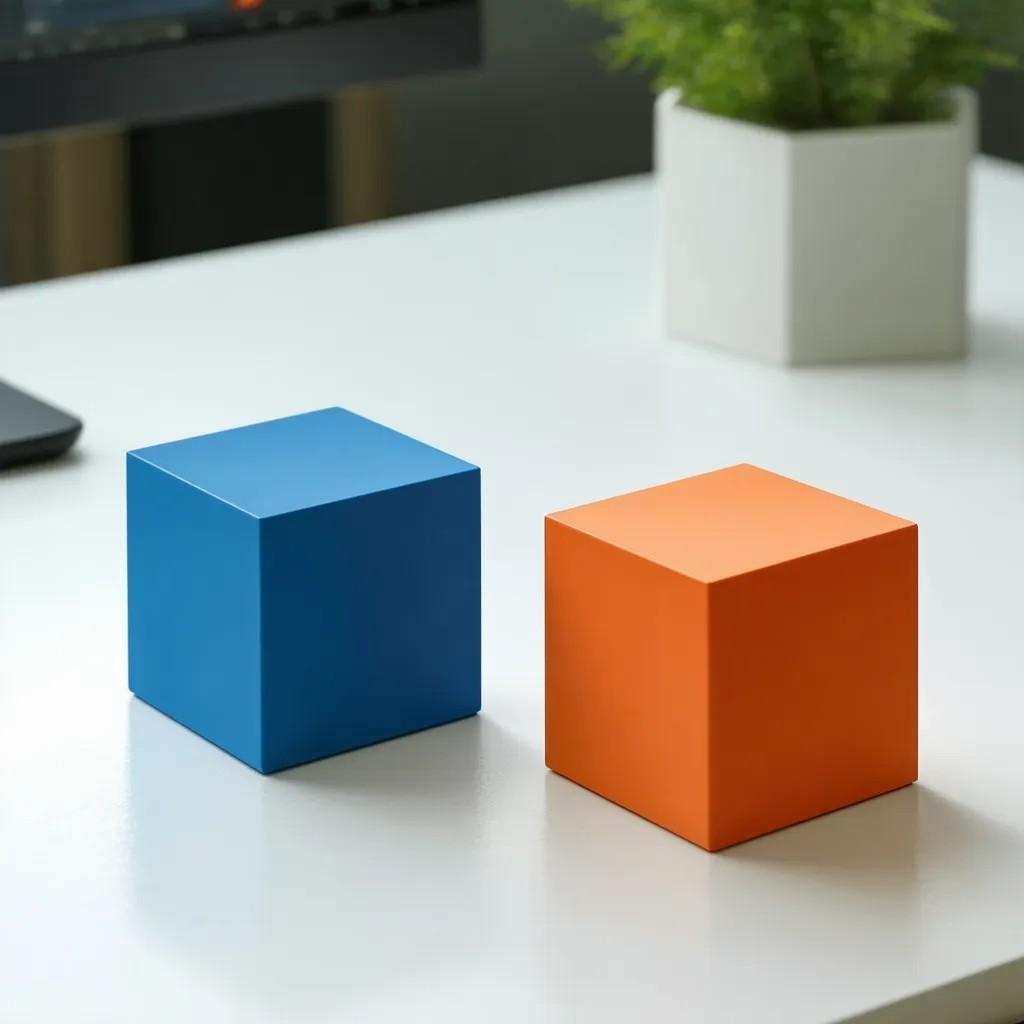cube: (542, 460, 919, 853), (124, 403, 482, 775)
